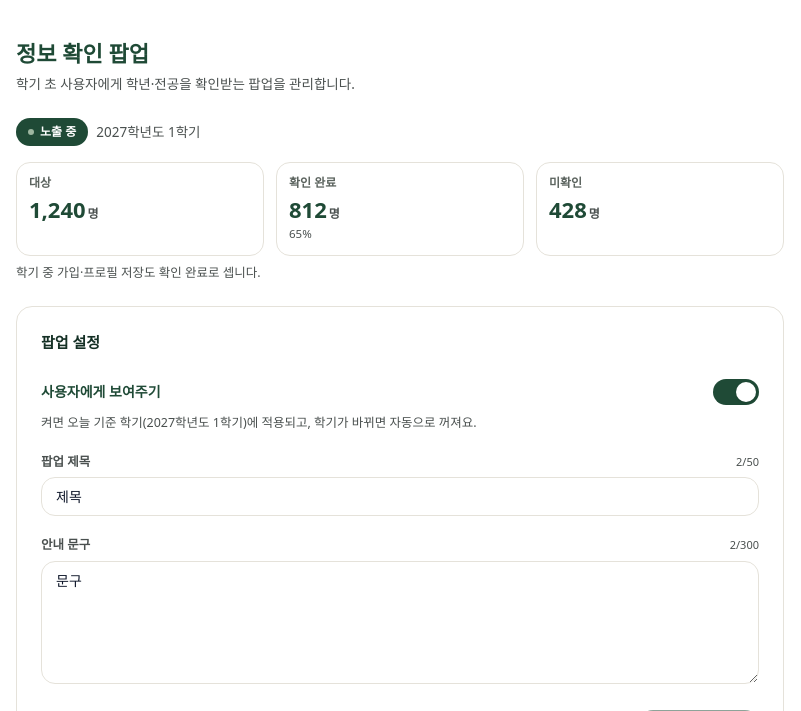
Test: AdminProfileCheckPage — 설정 저장 › 저장에 실패하면 입력을 남긴 채 저장 버튼 위에 알린다 — 5xx 는 폴백
The width and height of the screenshot is (801, 711).
Replace the text in the field labelled "팝업 제목" with "새 제목" at (400, 497), box [41,477,759,516]
(page scrolled)
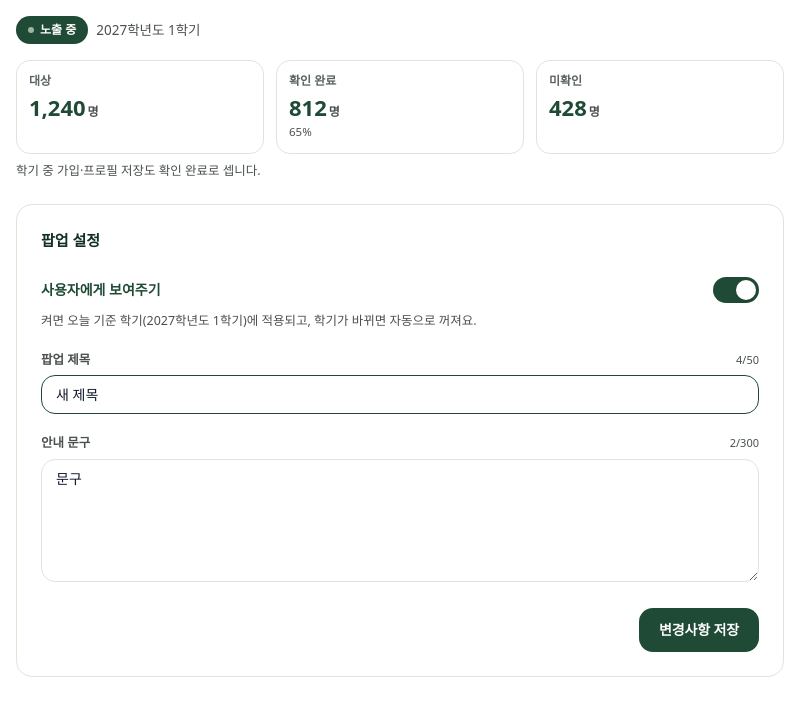
Click the button "변경사항 저장".
click(699, 630)  # box [639,608,759,652]
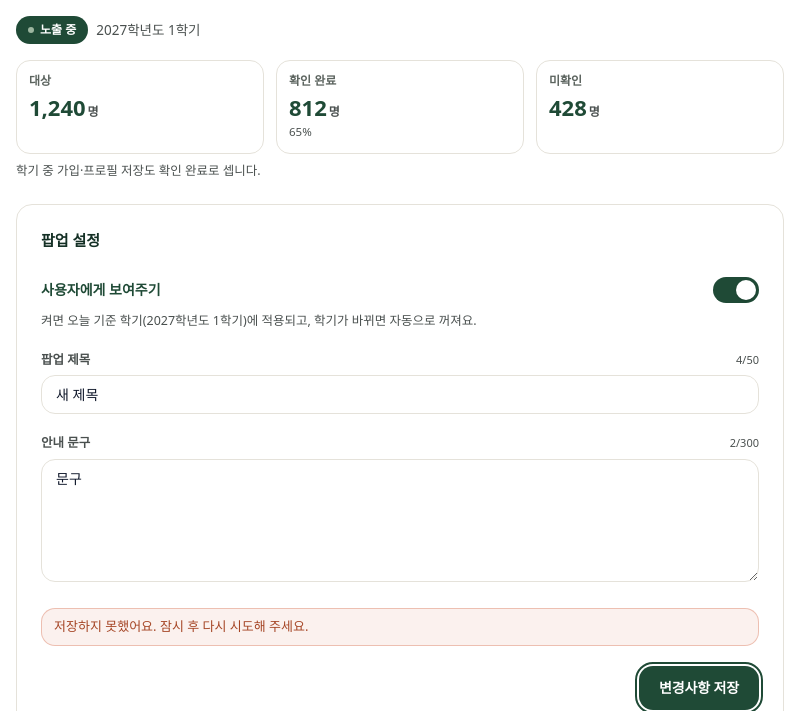
Expected: the message reads "저장하지 못했어요. 잠시 후 다시 시도해 주세요.", [54,617,308,635]
